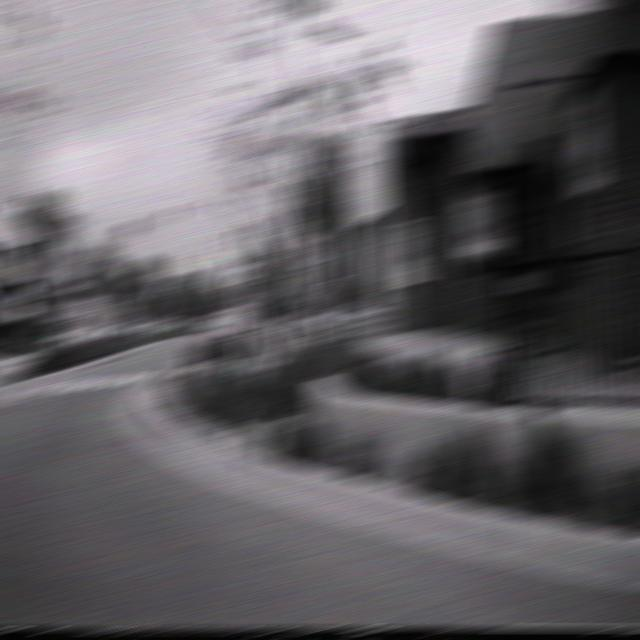pedestrianCrossing: (222, 208, 260, 264)
